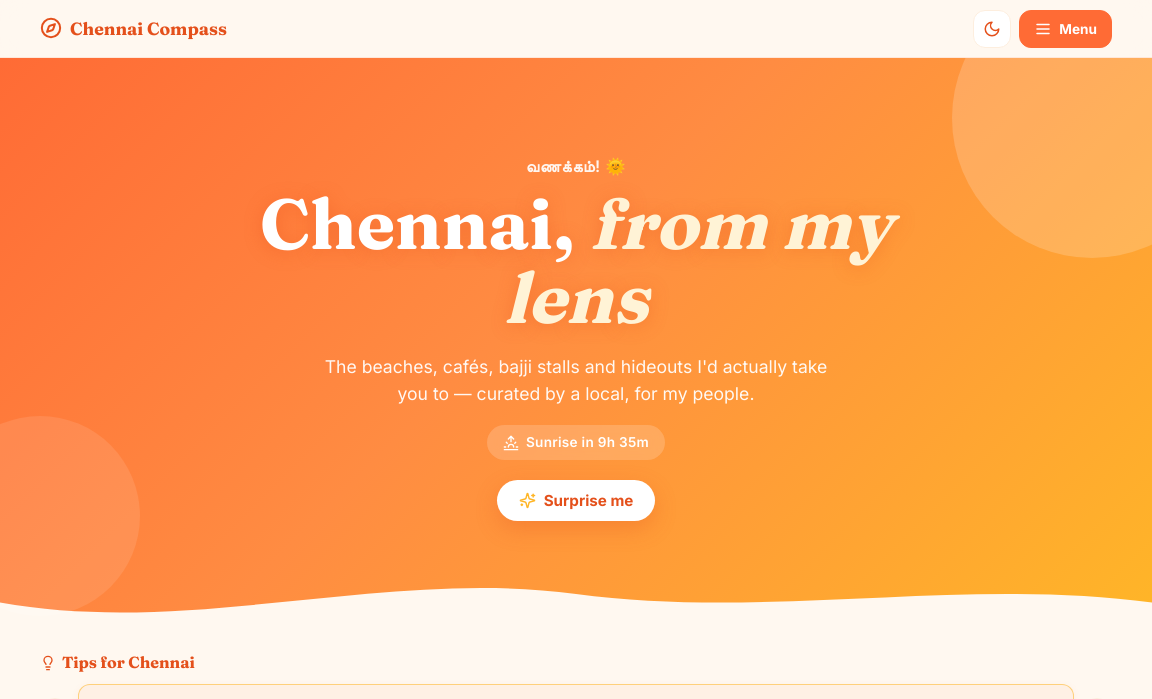
it: menu modals › opens the all-tips modal from the menu
The width and height of the screenshot is (1152, 699).
Click the button "Menu" at [1066, 28], box [1019,10,1112,48]
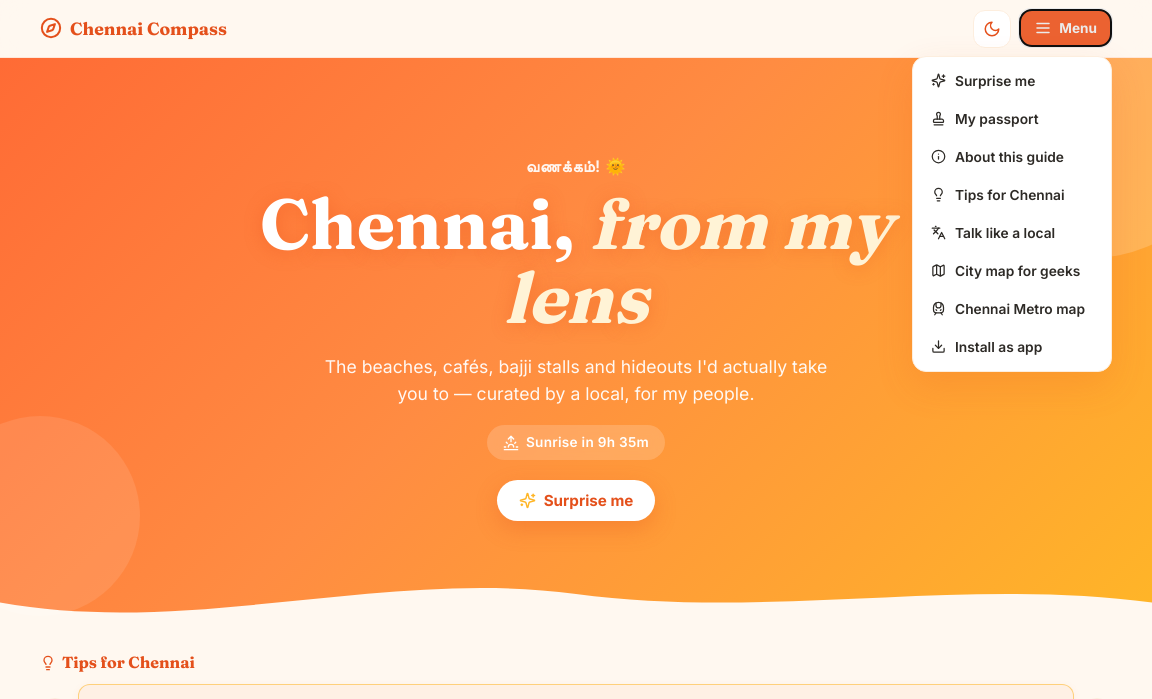
Click the menu item "Tips for Chennai" at [1012, 194], box [919,176,1105,212]
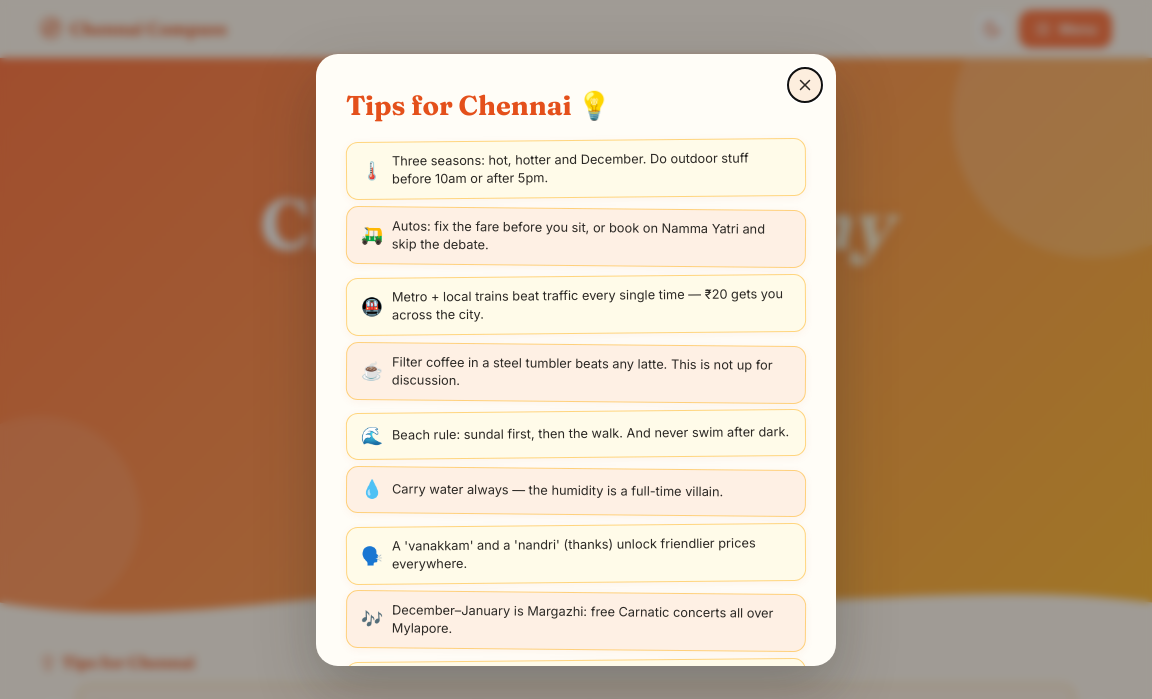
Expected: the dialog shows "Tips for Chennai", [346,88,611,122]
